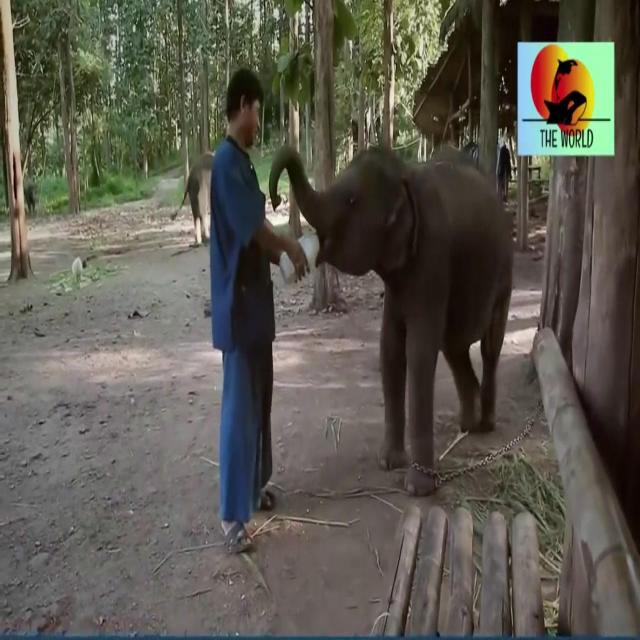Elephant: (334, 148, 508, 350), (185, 152, 215, 219), (22, 174, 40, 208)
